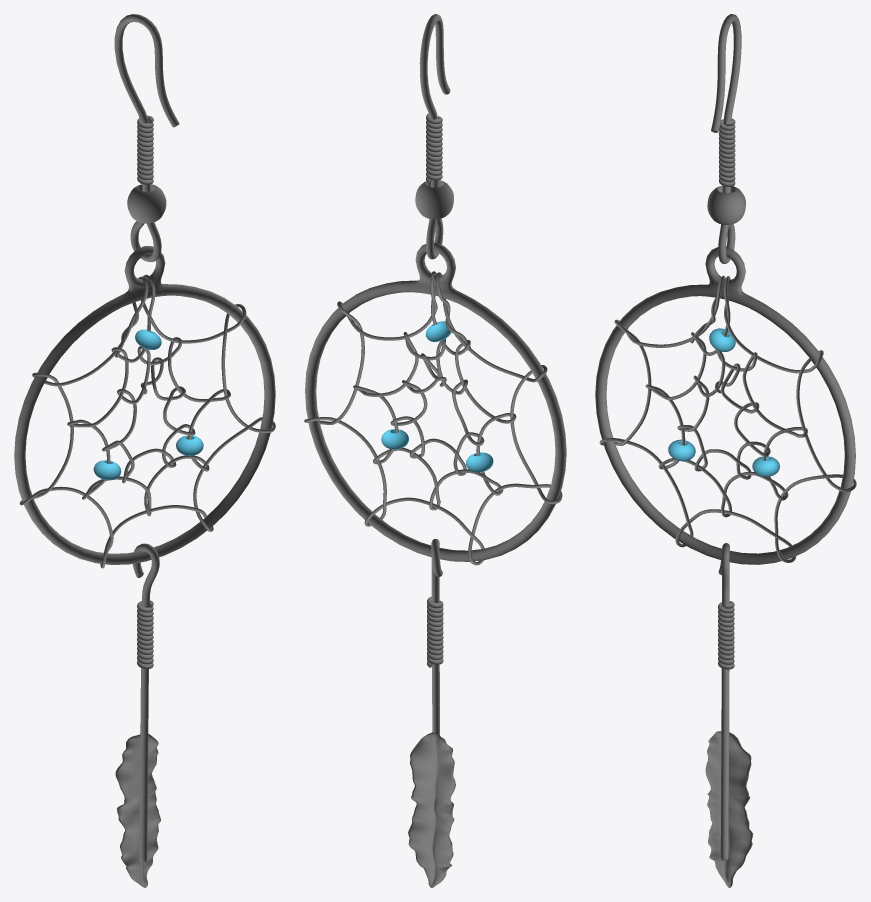
The model's file is Earring Single Separated.fbx.
3 renders of one model, left to right at view 1: azimuth 30°, elevation 25°; view 2: azimuth 150°, elevation 25°; view 3: azimuth 330°, elevation 25°, orthographic.
Visible parts, largest first — view 1: 11762_Earrings_v1_l2, 11762_Earrings_v1_l2.001; view 2: 11762_Earrings_v1_l2, 11762_Earrings_v1_l2.001; view 3: 11762_Earrings_v1_l2, 11762_Earrings_v1_l2.001.
Boxes of the visible parts, x1=… form: 11762_Earrings_v1_l2: x1=14, y1=246, x2=275, y2=887; 11762_Earrings_v1_l2.001: x1=114, y1=14, x2=179, y2=262; 11762_Earrings_v1_l2: x1=304, y1=242, x2=566, y2=887; 11762_Earrings_v1_l2.001: x1=415, y1=14, x2=453, y2=259; 11762_Earrings_v1_l2: x1=595, y1=246, x2=856, y2=887; 11762_Earrings_v1_l2.001: x1=707, y1=14, x2=745, y2=263.
Bounding box in the file's own units: 96.2 × 308 × 27.9.
